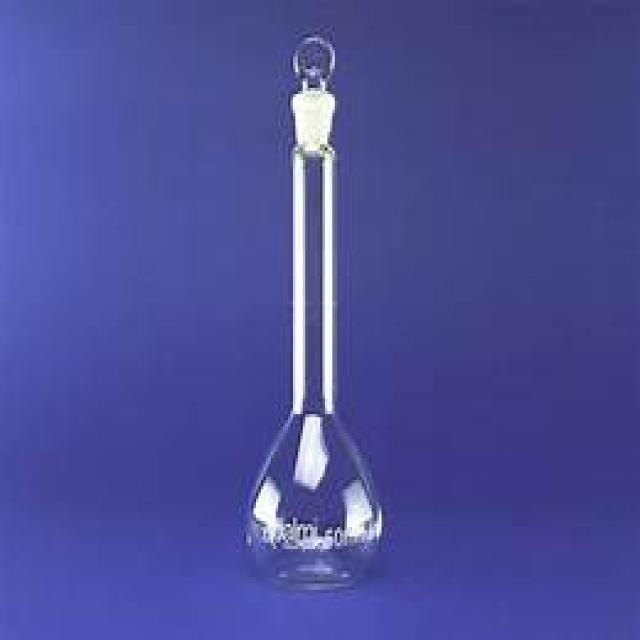Volumetric flask: (235, 39, 387, 591)
